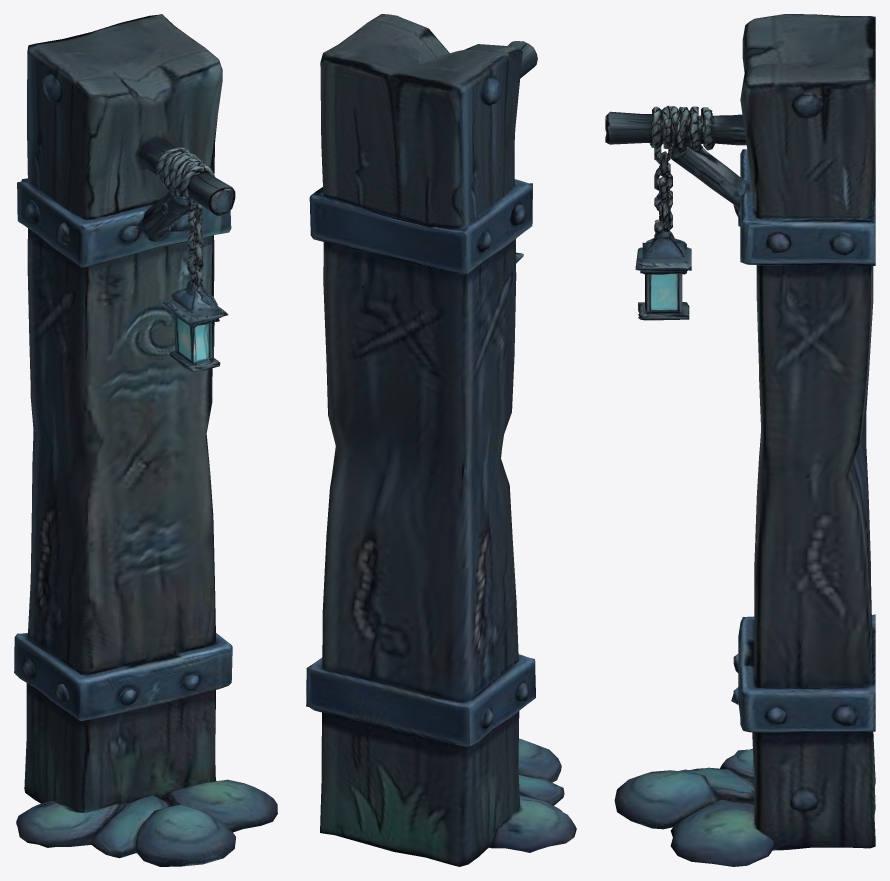
Rendered from cs_pilar_a.glb.
The picture shows the model from 3 angles, left to right: view 1: azimuth 30°, elevation 25°; view 2: azimuth 150°, elevation 25°; view 3: azimuth 270°, elevation 25°; orthographic projection. The views are drawn at different scales.
Visible parts, largest first — view 1: mesh_node; view 2: mesh_node; view 3: mesh_node.
Boxes of the visible parts, x1,y1,x2,y2 form: mesh_node: (14,14,277,866); mesh_node: (306,14,576,866); mesh_node: (605,14,875,866).
Bounding box in the file's own units: 0.2271 × 0.7129 × 0.2266.
Materials: 1 (1 with a texture image).
